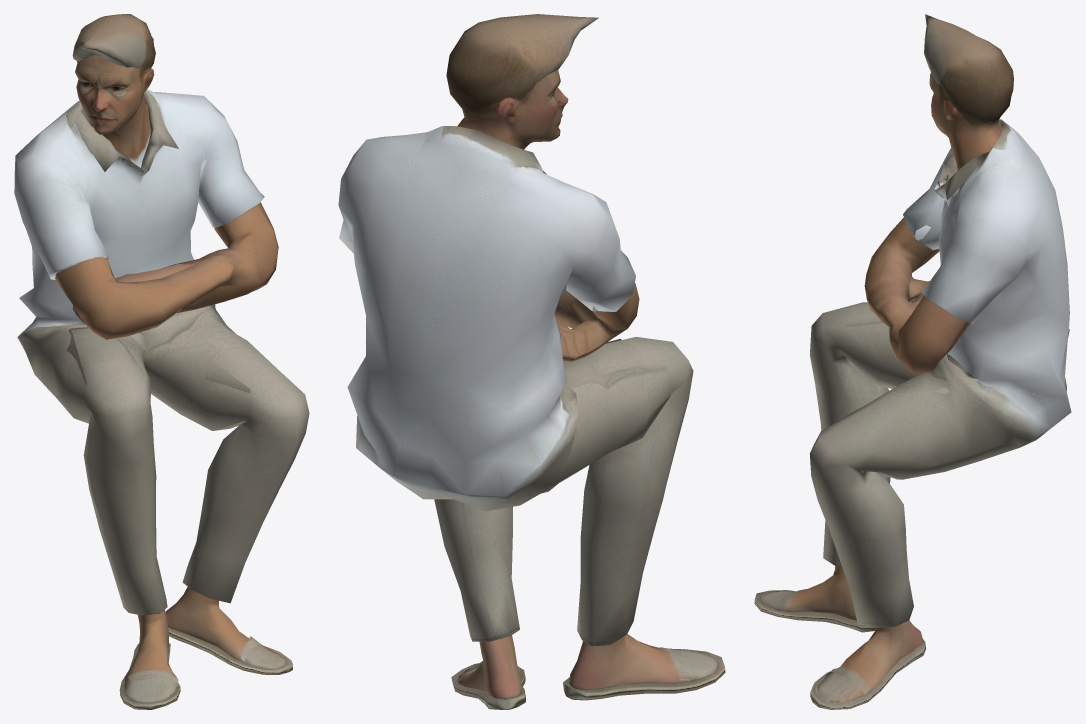
The model's file is sitting.glb.
The picture shows the model from 3 angles, left to right: view 1: azimuth 30°, elevation 25°; view 2: azimuth 150°, elevation 25°; view 3: azimuth 270°, elevation 25°; orthographic projection. The views are drawn at different scales.
Bounding box in the file's own units: 0.6889 × 1.75 × 0.8135.
1 material, 1 textured.
